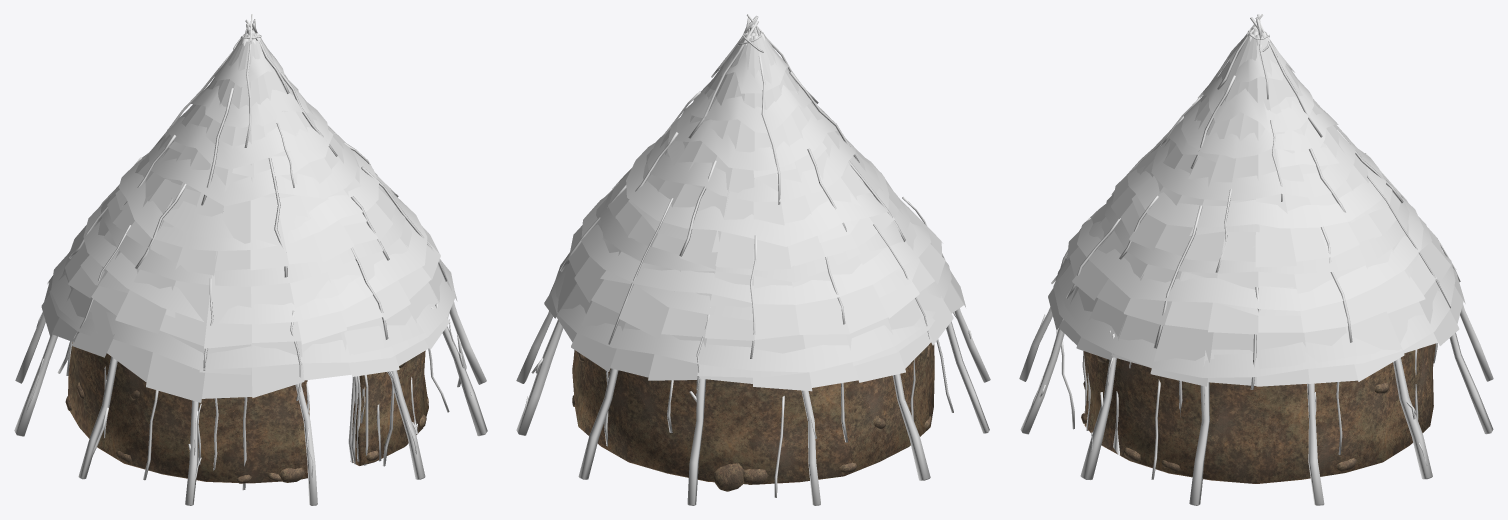
Rendered from lowpoly_african_hut_001.fbx.
The picture shows the model from 3 angles, left to right: view 1: azimuth 30°, elevation 25°; view 2: azimuth 150°, elevation 25°; view 3: azimuth 270°, elevation 25°; orthographic projection.
Visible parts, largest first — view 1: lowpoly_african_hut_001; view 2: lowpoly_african_hut_001; view 3: lowpoly_african_hut_001.
Part boxes in pixels (bbox=[...]): lowpoly_african_hut_001: bbox=[14, 14, 487, 505]; lowpoly_african_hut_001: bbox=[516, 14, 990, 505]; lowpoly_african_hut_001: bbox=[1019, 14, 1493, 505].
Bounding box in the file's own units: 454 × 425 × 453.
